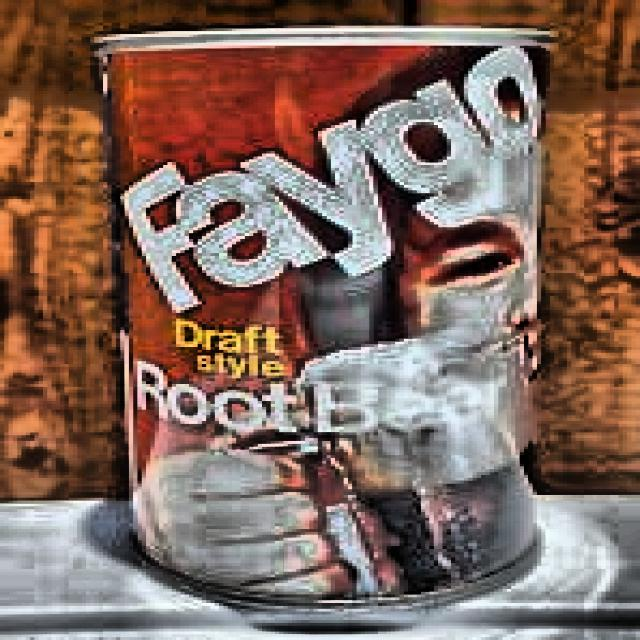Cans: (71, 17, 578, 620)
